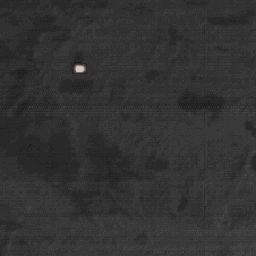Target: (72, 62, 88, 74)
